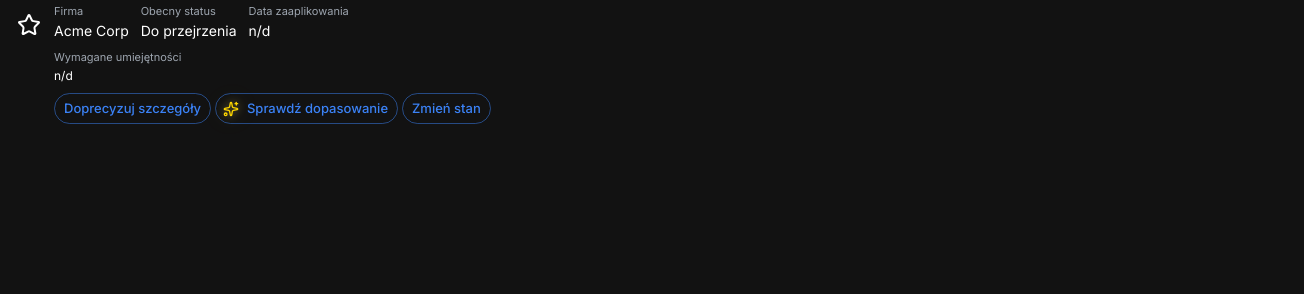
Test: ApplicationStatusEditor › reveals edit controls after clicking change status
Click the button "Zmień stan". click: {"x": 446, "y": 109}
box: [402,94,491,124]
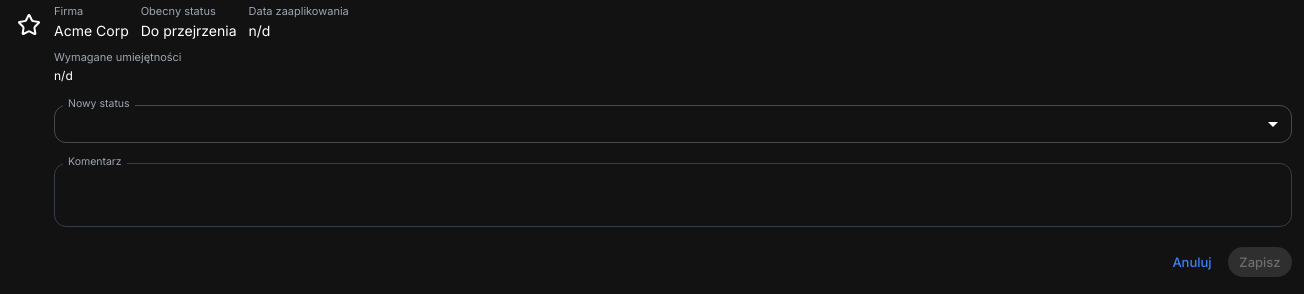
Now the dropdown named "Nowy status" is shown, box [54,106,1292,143]
Now the button "Zapisz" is disabled, box [1228,247,1292,277]
